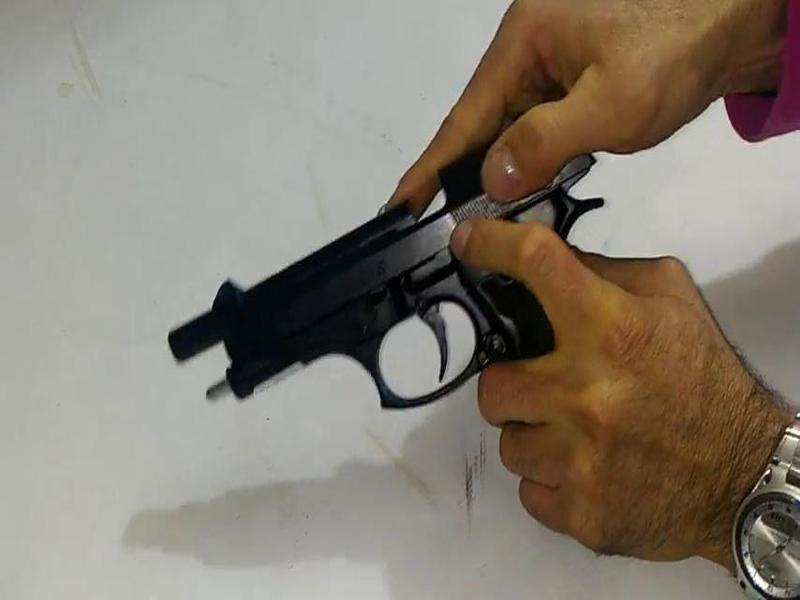Pistola: (141, 109, 604, 448)
